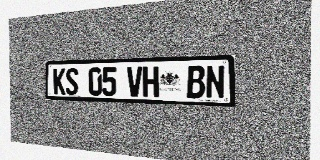0: (88, 67, 102, 96)
5: (102, 67, 116, 96)
B: (187, 65, 205, 99)
H: (143, 66, 159, 97)
K: (53, 68, 65, 95)
N: (206, 65, 225, 99)
S: (66, 68, 78, 95)
V: (127, 67, 142, 97)
